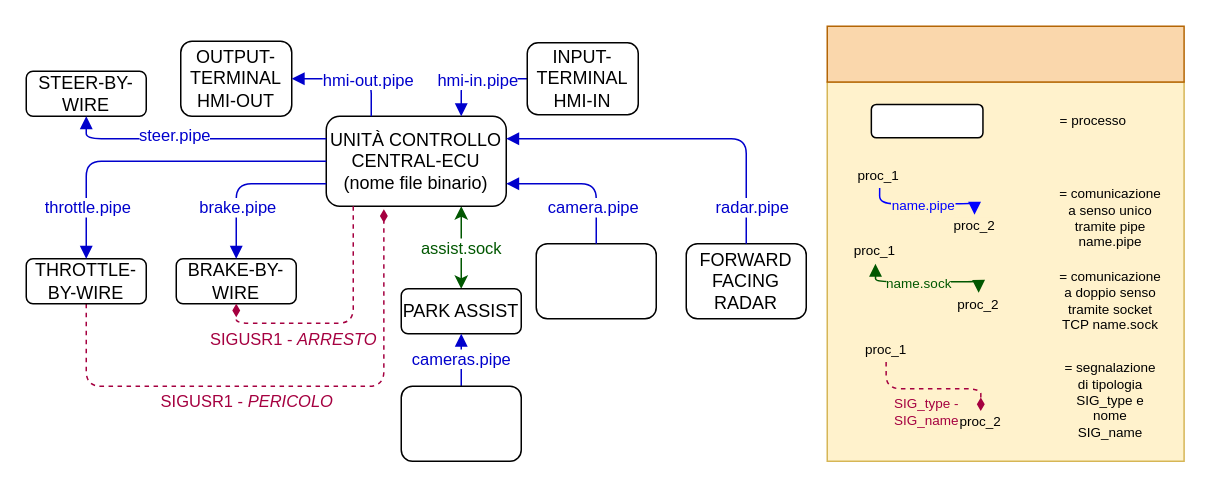
Some shapes in this 1211 by 488 pixel diagram are drawn without their labels. Each missing label, with the centre of its shape:
"COMPONENTE" goes at (x=926, y=120).
"FRONT WINDSHIELD CAMERA" goes at (x=595, y=280).
"LEGENDA" goes at (x=1005, y=53).
"SURROUND VIEW CAMERAS" goes at (x=460, y=423).
